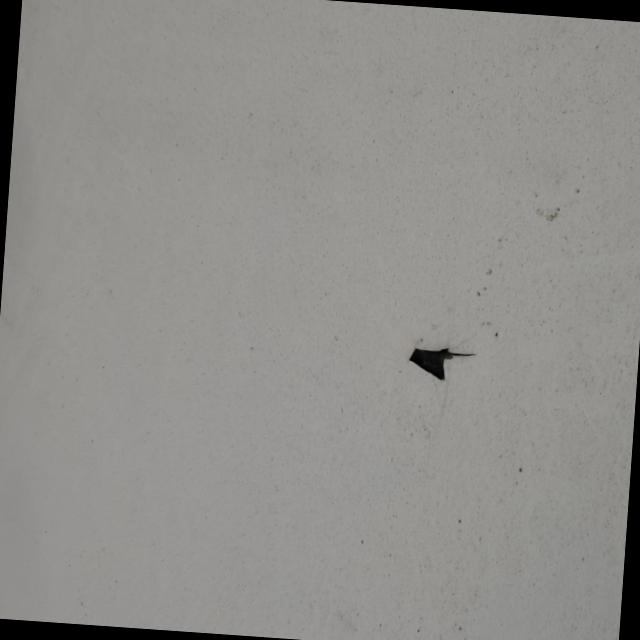surface_peeling: (404, 341, 466, 383)
